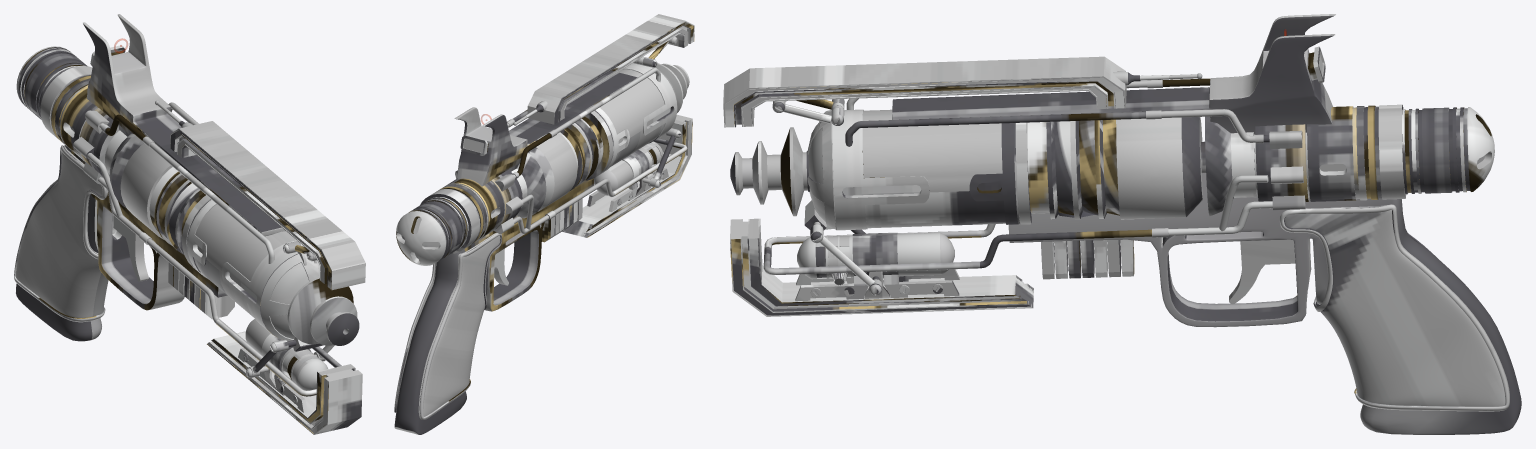
File: Wingman_swat.glb
The picture shows the model from 3 angles, left to right: view 1: azimuth 30°, elevation 25°; view 2: azimuth 150°, elevation 25°; view 3: azimuth 270°, elevation 25°; orthographic projection. The views are drawn at different scales.
Parts seen in each view (by area): view 1: Object_4, Object_7, Object_6, Object_8, Object_5; view 2: Object_4, Object_5, Object_6, Object_8, Object_7; view 3: Object_4, Object_6, Object_5, Object_7, Object_8.
Boxes of the visible parts, x1,y1,x2,y2 form: Object_4: (16, 14, 362, 434); Object_7: (105, 102, 359, 425); Object_6: (14, 100, 341, 396); Object_8: (73, 108, 365, 412); Object_5: (16, 46, 309, 385); Object_4: (394, 36, 692, 434); Object_5: (396, 26, 686, 265); Object_6: (394, 67, 687, 419); Object_8: (455, 14, 694, 242); Object_7: (511, 38, 689, 231); Object_4: (730, 14, 1521, 434); Object_6: (763, 73, 1509, 411); Object_5: (735, 81, 1494, 285); Object_7: (730, 71, 1256, 311); Object_8: (723, 56, 1308, 301).
Bounding box in the file's own units: 0.0529 × 0.1856 × 0.3354.
Materials: 4 (1 with a texture image).
